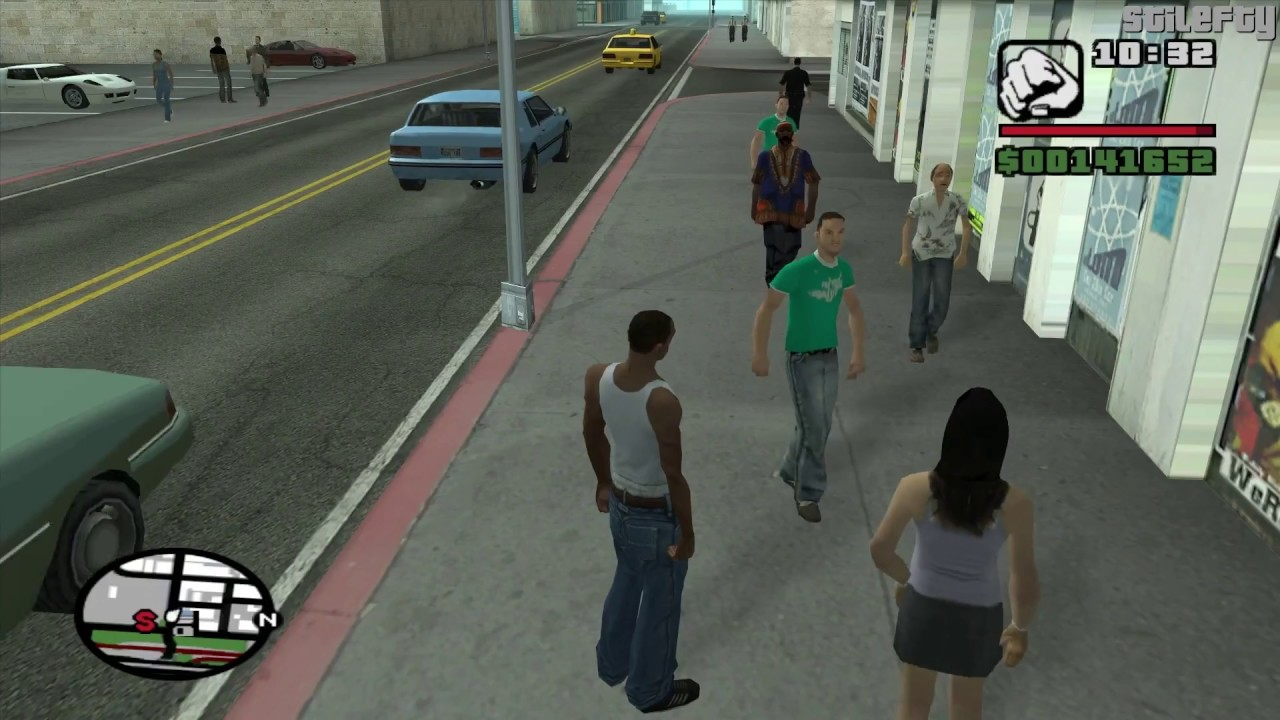car: (394, 86, 574, 198), (1, 59, 142, 113), (249, 35, 352, 68), (600, 30, 659, 79)
person: (582, 317, 714, 708), (887, 387, 1022, 720), (768, 211, 858, 526), (900, 167, 974, 360), (757, 122, 818, 303), (779, 58, 818, 148)
